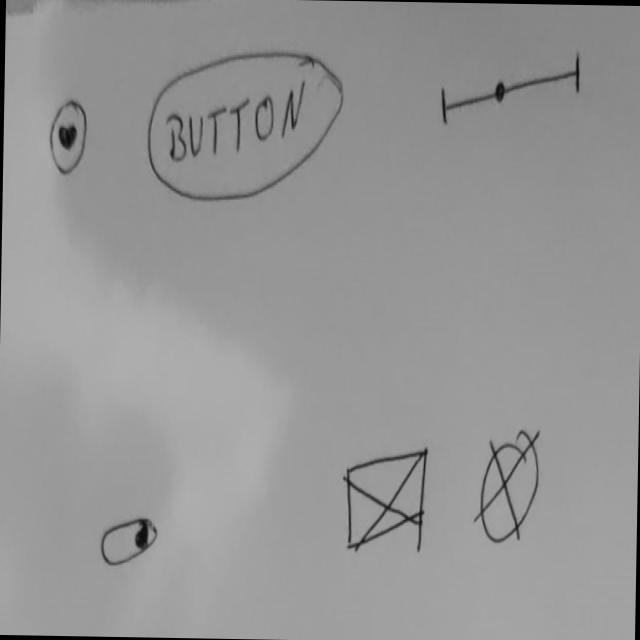button: (143, 45, 346, 206)
icon-button: (48, 96, 89, 178)
image: (342, 441, 428, 556), (471, 424, 542, 546)
slider: (438, 45, 582, 129)
toggle: (98, 514, 158, 574)
